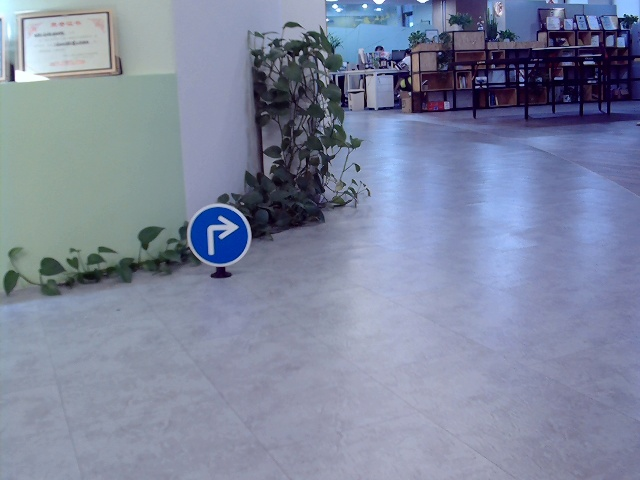turn_right: (201, 212, 239, 256)
